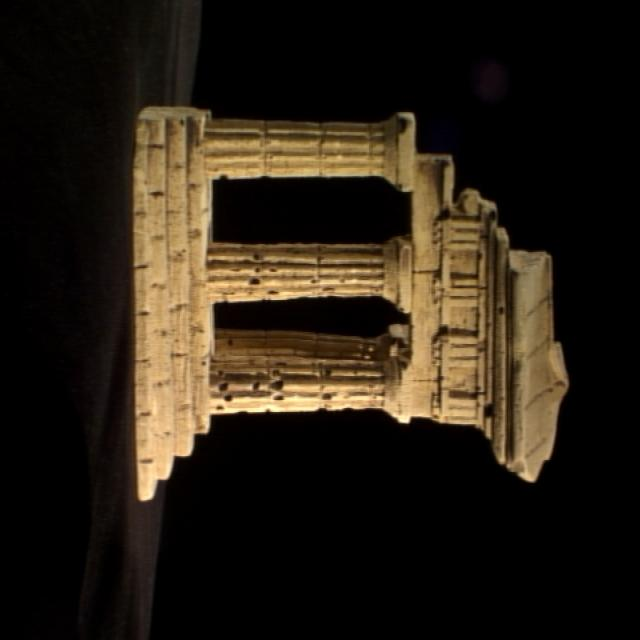Instance-Segmentation: (133, 107, 567, 499)
